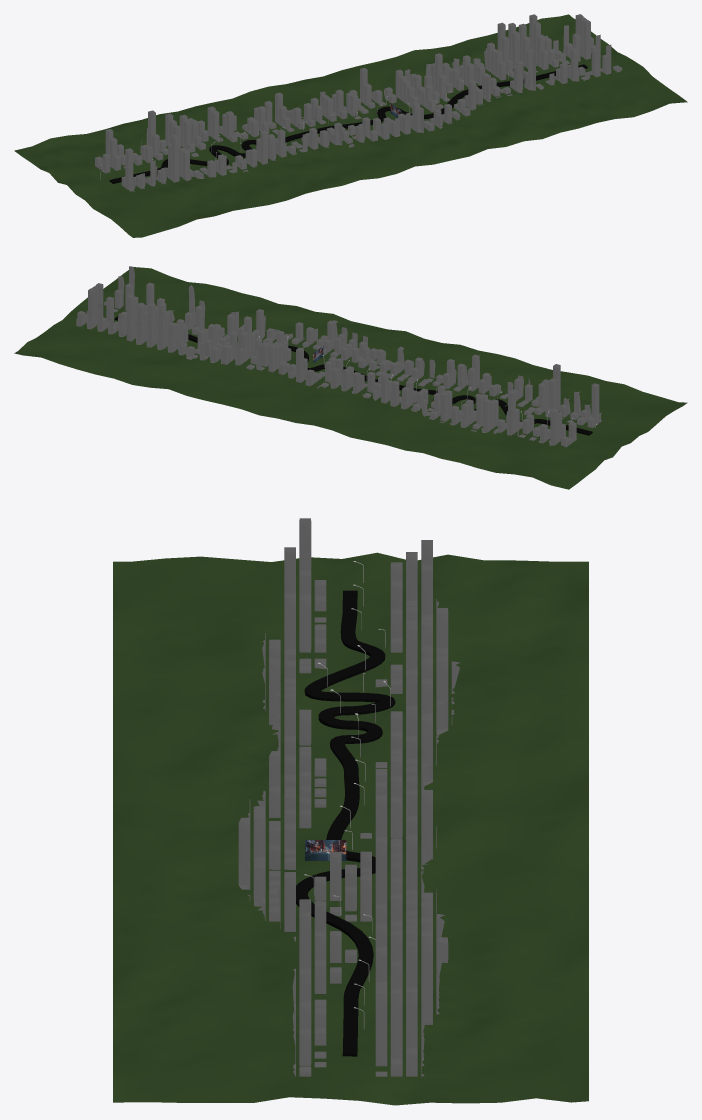
Rendered from trackbig.glb.
3 views of the same model, one above another, from view 1: azimuth 30°, elevation 25°; view 2: azimuth 150°, elevation 25°; view 3: azimuth 270°, elevation 25° (orthographic). The views are drawn at different scales.
Parts seen in each view (by area): view 1: Plane.001, Plane, BézierCurve.001; view 2: Plane.001, Plane, BézierCurve.001; view 3: Plane.001, Plane, BézierCurve.001.
Part boxes in pixels (<box>): Plane.001: <box>14,14,687,237</box>; Plane: <box>95,14,622,191</box>; BézierCurve.001: <box>109,64,587,183</box>; Plane.001: <box>14,267,687,489</box>; Plane: <box>76,266,601,447</box>; BézierCurve.001: <box>114,316,592,435</box>; Plane.001: <box>113,552,588,1105</box>; Plane: <box>238,518,460,1076</box>; BézierCurve.001: <box>296,590,395,1056</box>.
Bounding box in the file's own units: 5.38 × 0.5301 × 2.
Materials: 5 (2 with a texture image).
